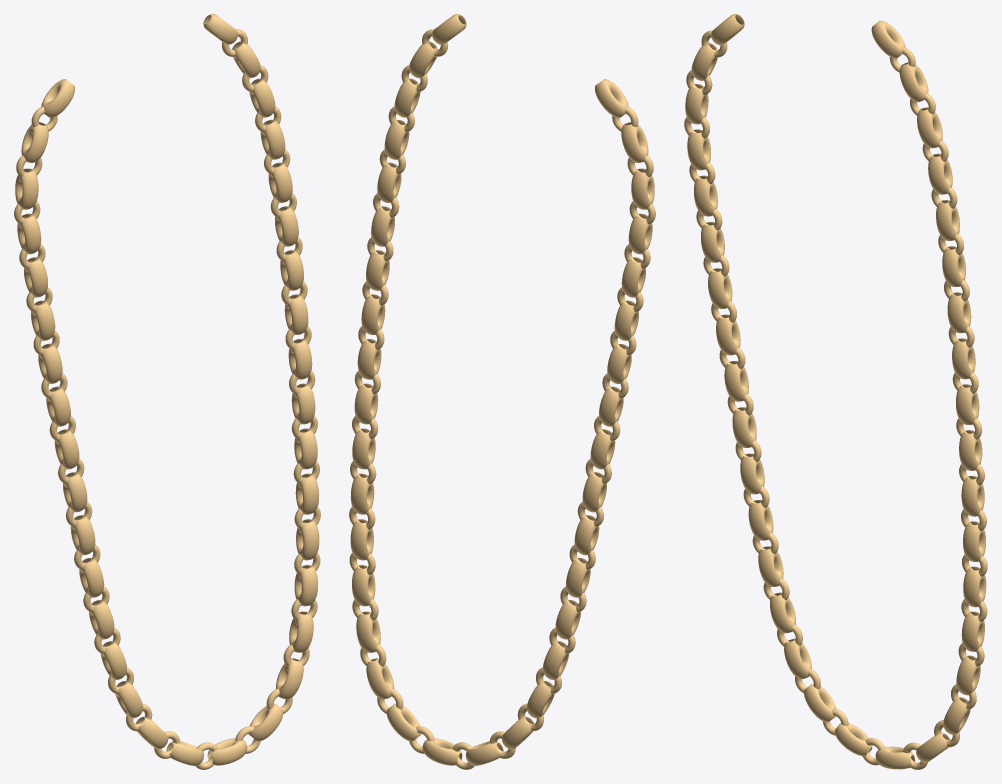
The model's file is chain-32-9abd23e2.2026-10-07.glb.
The picture shows the model from 3 angles, left to right: view 1: azimuth 30°, elevation 25°; view 2: azimuth 150°, elevation 25°; view 3: azimuth 330°, elevation 25°; orthographic projection.
Visible parts, largest first — view 1: links, rings; view 2: links, rings; view 3: links, rings.
Part boxes in pixels (<box>): links: <box>15,14,319,765</box>; rings: <box>14,29,320,769</box>; links: <box>350,14,654,765</box>; rings: <box>349,29,655,769</box>; links: <box>685,14,986,769</box>; rings: <box>684,30,987,769</box>.
Bounding box in the file's own units: 0.0855 × 0.2011 × 0.00563.
